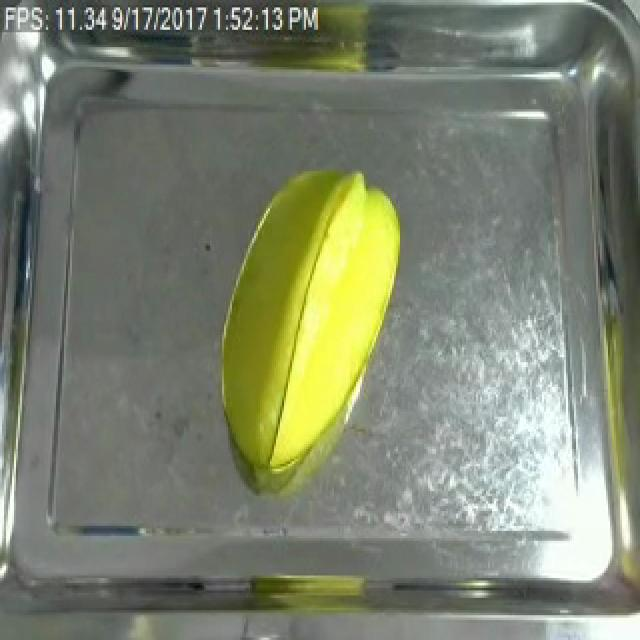fruit: (204, 156, 404, 491)
